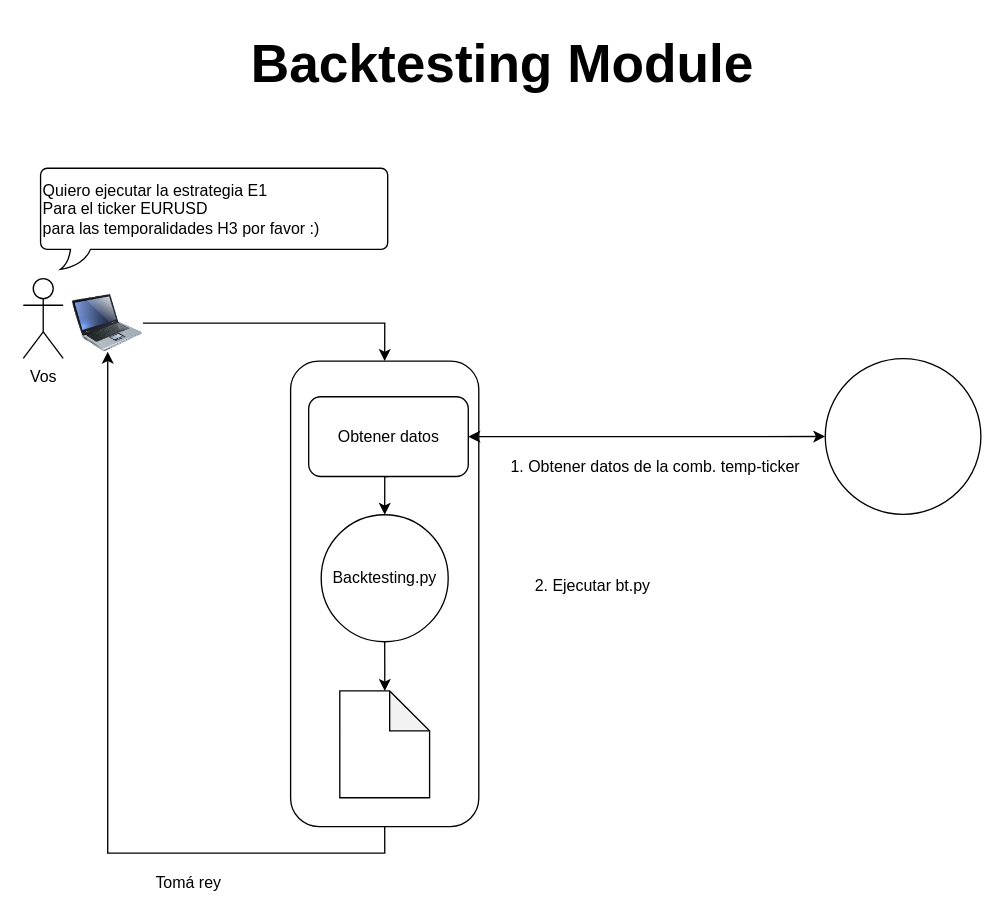
Some shapes in this 1004 by 923 pixel diagram are drawn without their labels. The box of each missing label's shape, as (x1, y1, x2, y2) in pixels:
Meta Trader 5: (824, 357, 981, 514)
Métricas y gráfico: (338, 690, 430, 798)
